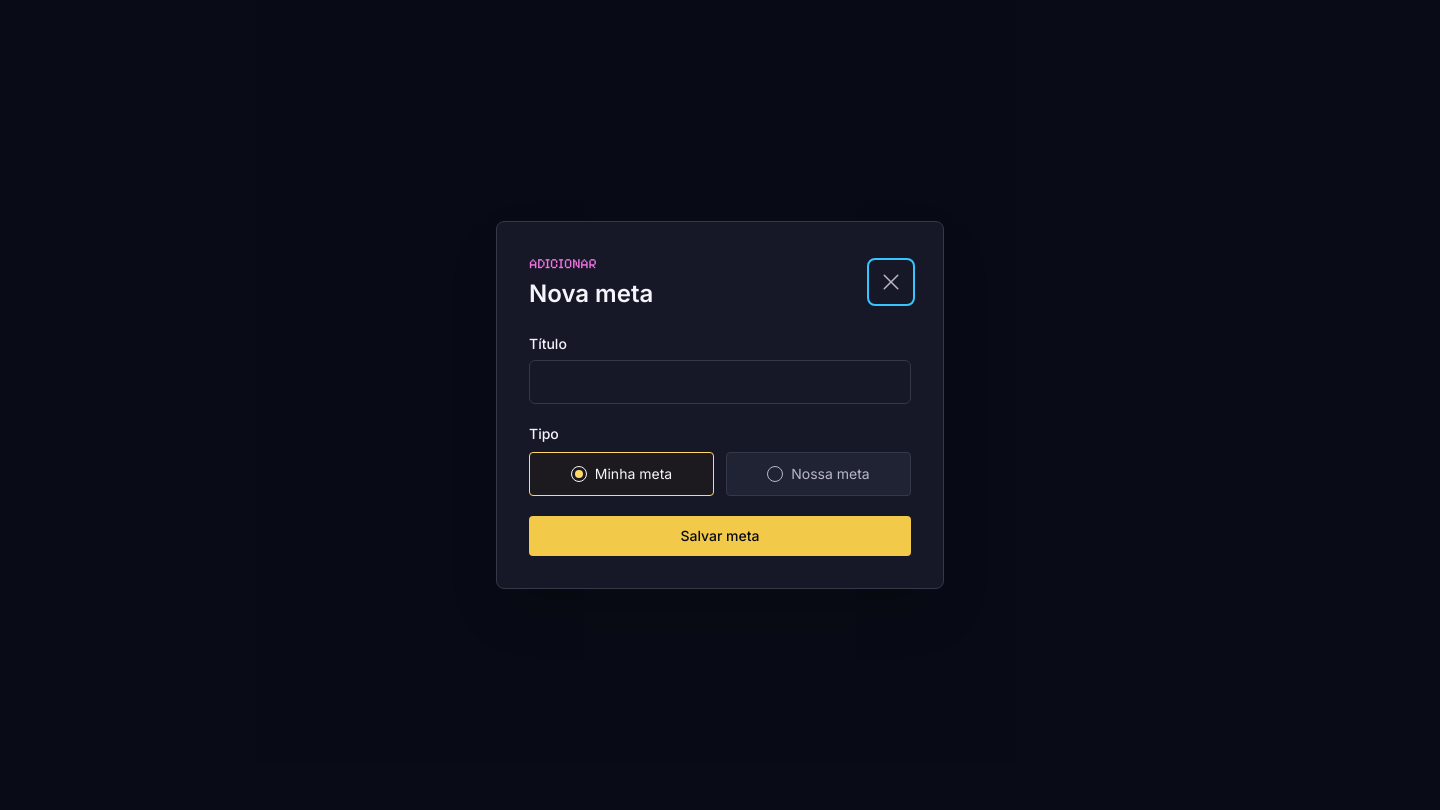
Test case: NewGoalModal › keeps title validation next to the field without creating a toast
Click the button "Salvar meta": click(720, 536) left=529, top=516, right=911, bottom=556
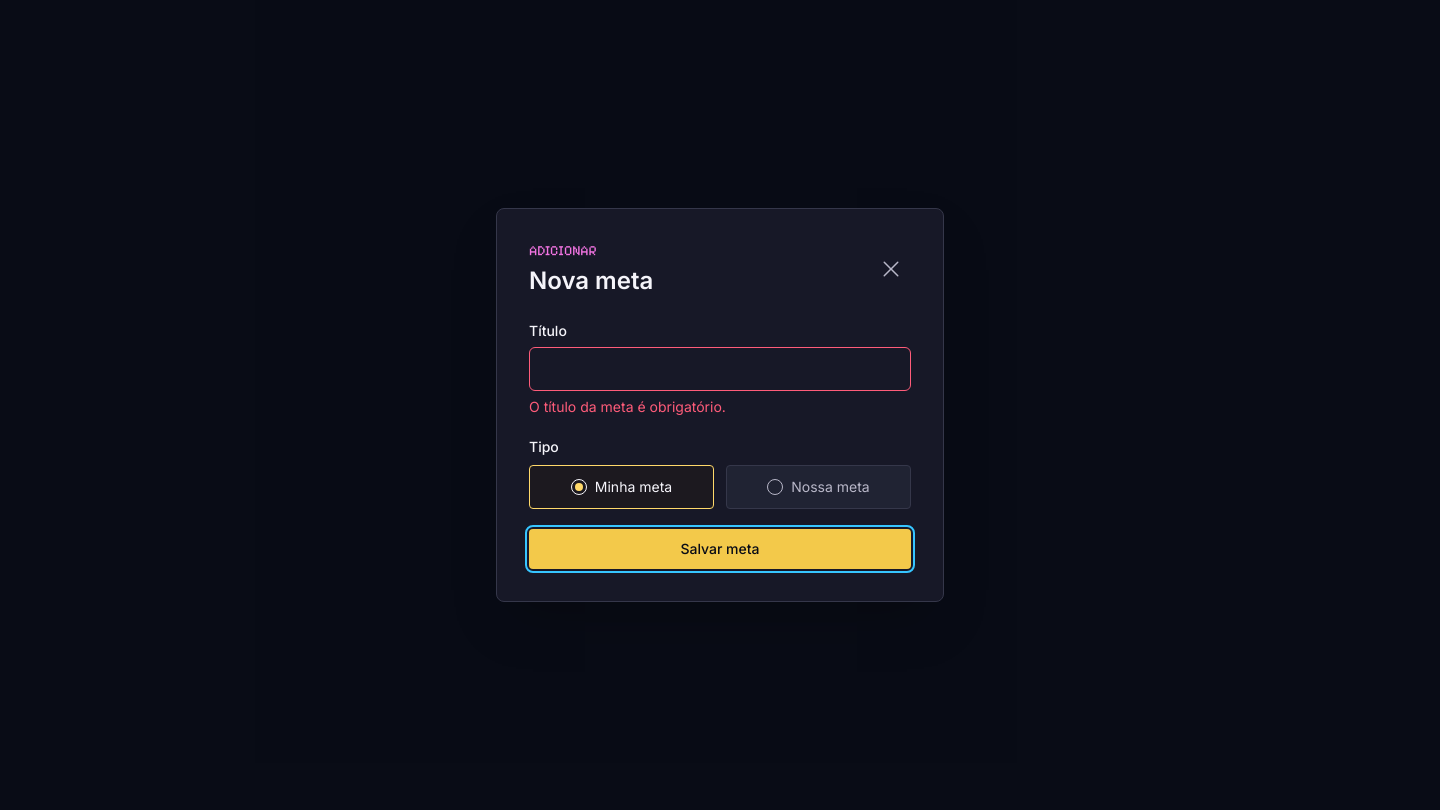
Expected: the text "O título da meta é obrigatório." is shown, left=529, top=398, right=726, bottom=415
